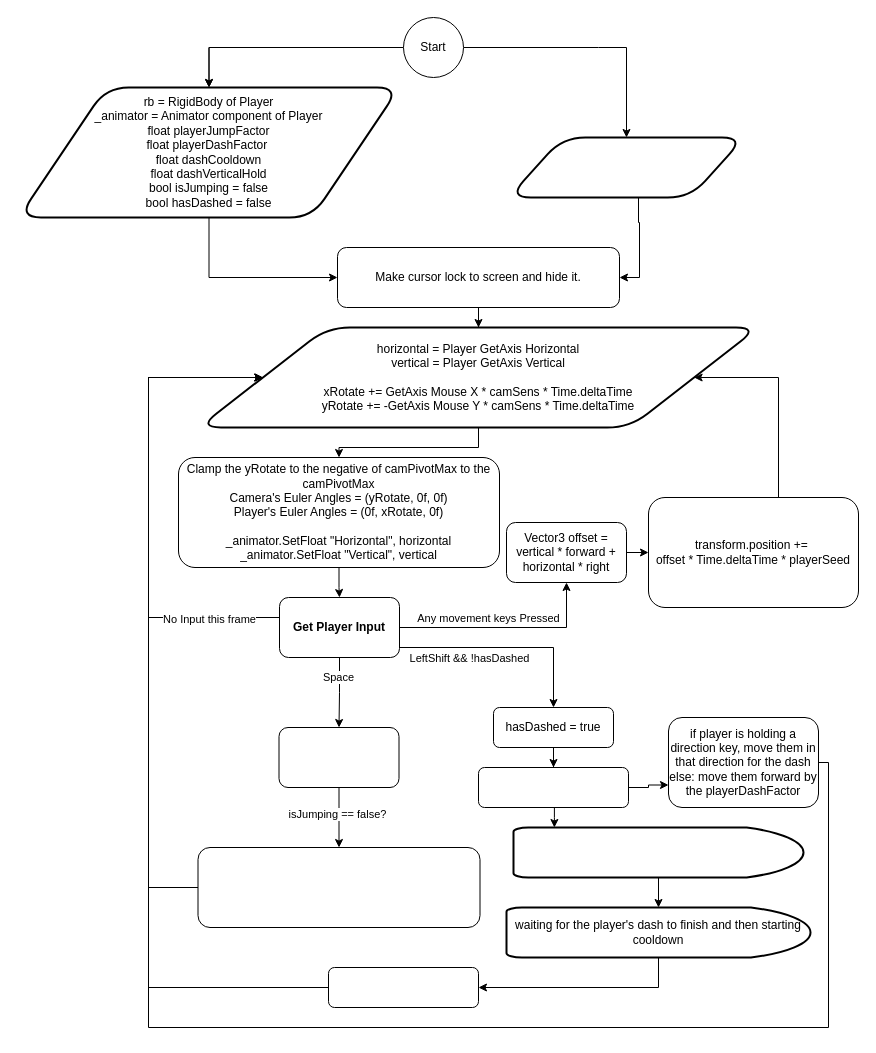
Image size: 876x1053. Some labels were removed from this diagram. The centre of each missing label's shape, as x and y in pixels:
"float camSensitivity camPivotMax = 50f" goes at (x=626, y=167).
"freezing the player's y position for height to be preserved through dash" goes at (x=658, y=852).
"hasDashed = false" goes at (x=403, y=987).
"if Player collision is touching ground isJumping = false else: isJumping = true" goes at (x=338, y=757).
"rb.AddForce(UP * playerJumpFactor)" goes at (x=338, y=887).
"Start Cooldown coroutine" goes at (x=553, y=787).
